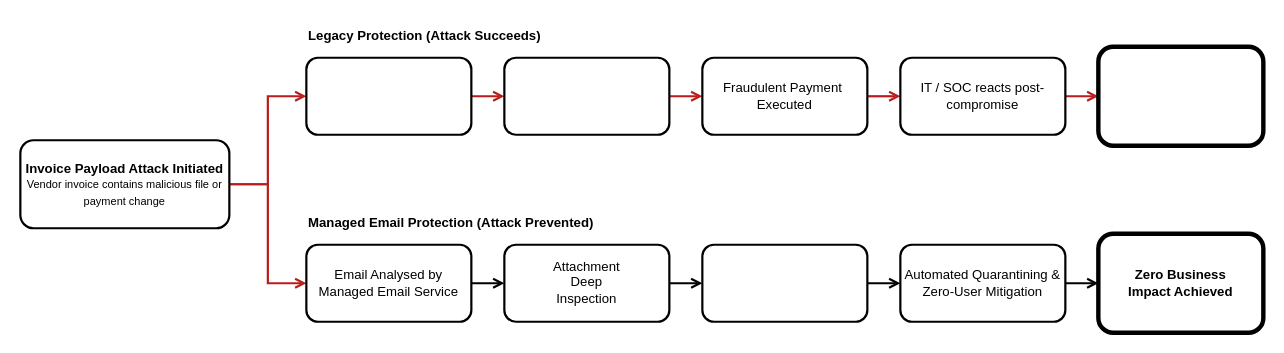
This 1284x353 diagram has some shape labels left out. Each missing label, with the centre of its shape:
Detection Flags Payload/Value Change: point 784,282
Finance Employee Process Payment as Instructed: point 586,95
Legacy filters allow email through: point 388,95
Operational and Financial Impact Realized: point 1180,95
